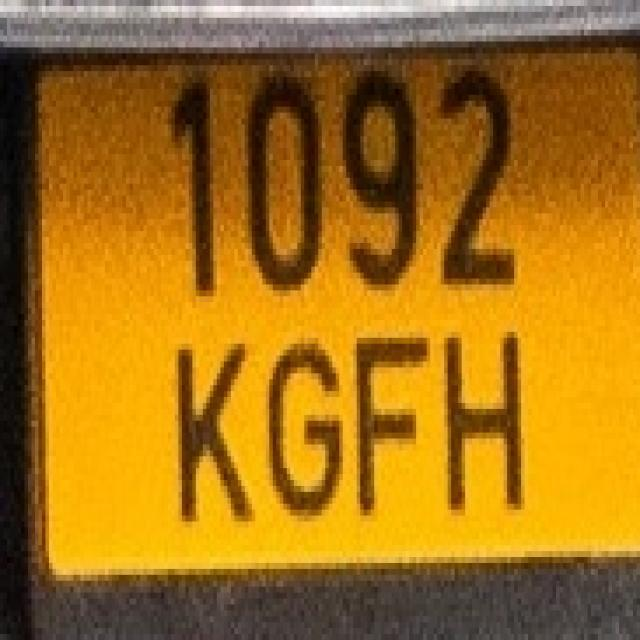0: (228, 59, 326, 290)
1: (150, 65, 224, 296)
2: (423, 59, 521, 290)
9: (328, 59, 424, 290)
F: (339, 320, 430, 516)
G: (252, 332, 343, 516)
H: (426, 314, 528, 510)
K: (161, 332, 252, 522)
